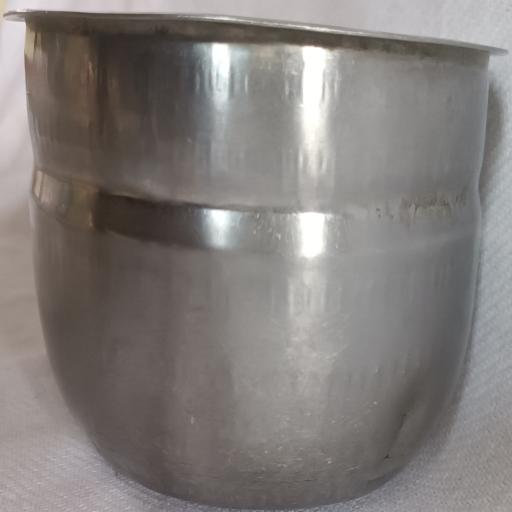vessel: (6, 11, 505, 508)
